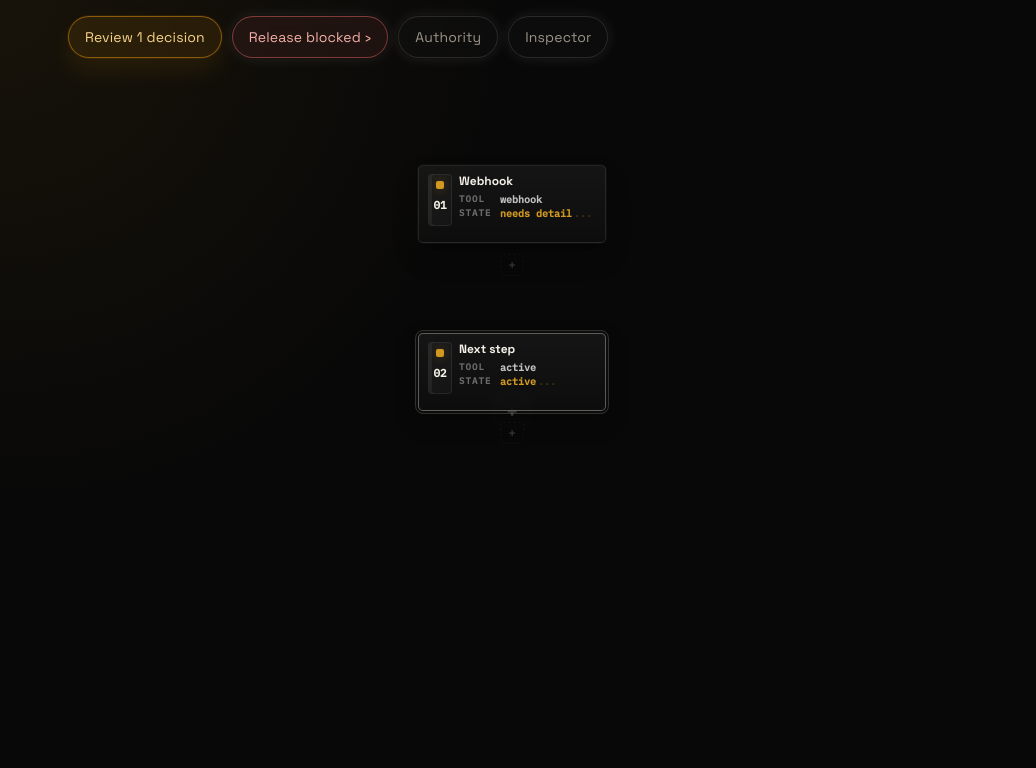
Test case: MoonBuildPage dock authority › shows review as the primary decision and keeps release blocked in the top dock
Expected: the button with aria-label "Open review decisions" reads "Review 1 decision", [68,16,222,58]
Click the button with aria-label "Open release checklist" at {"x": 310, "y": 37}, box [232,16,388,58]
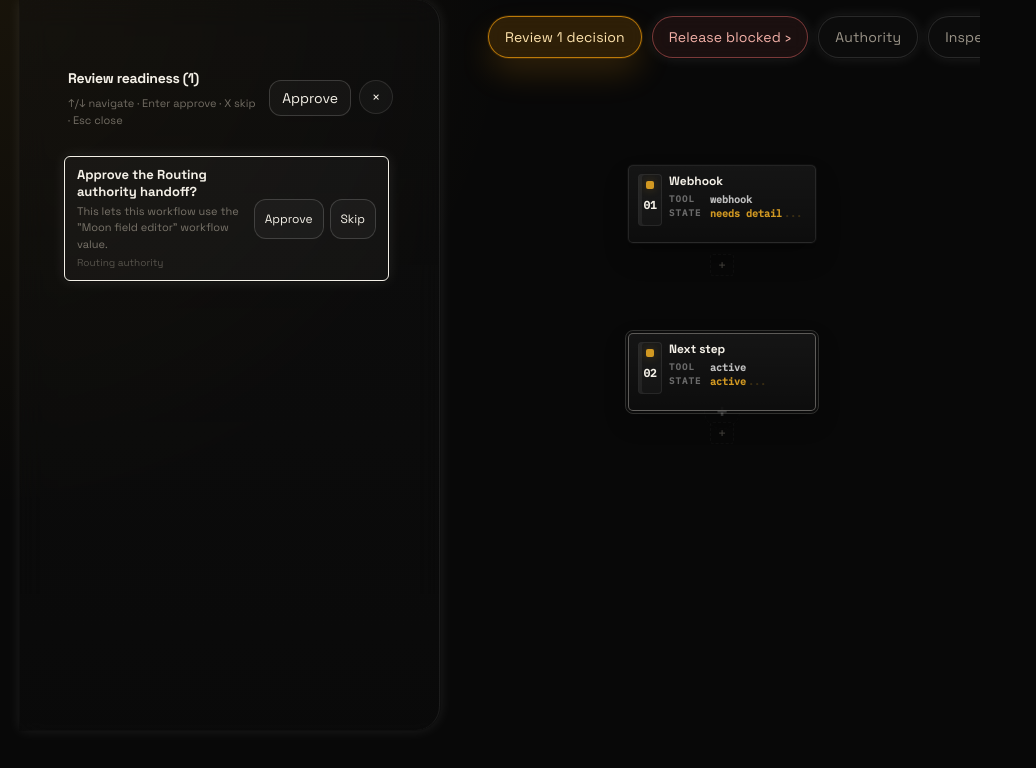
Result: the text "Review readiness (1)" is shown at [68,69,199,87]
